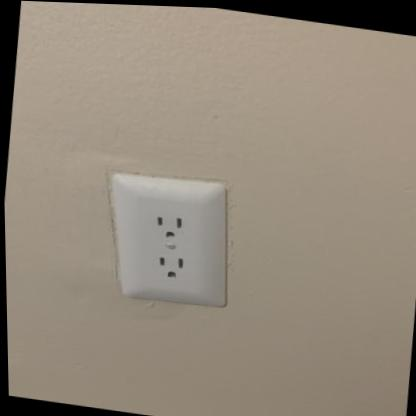OUTLET: (105, 169, 233, 308)
